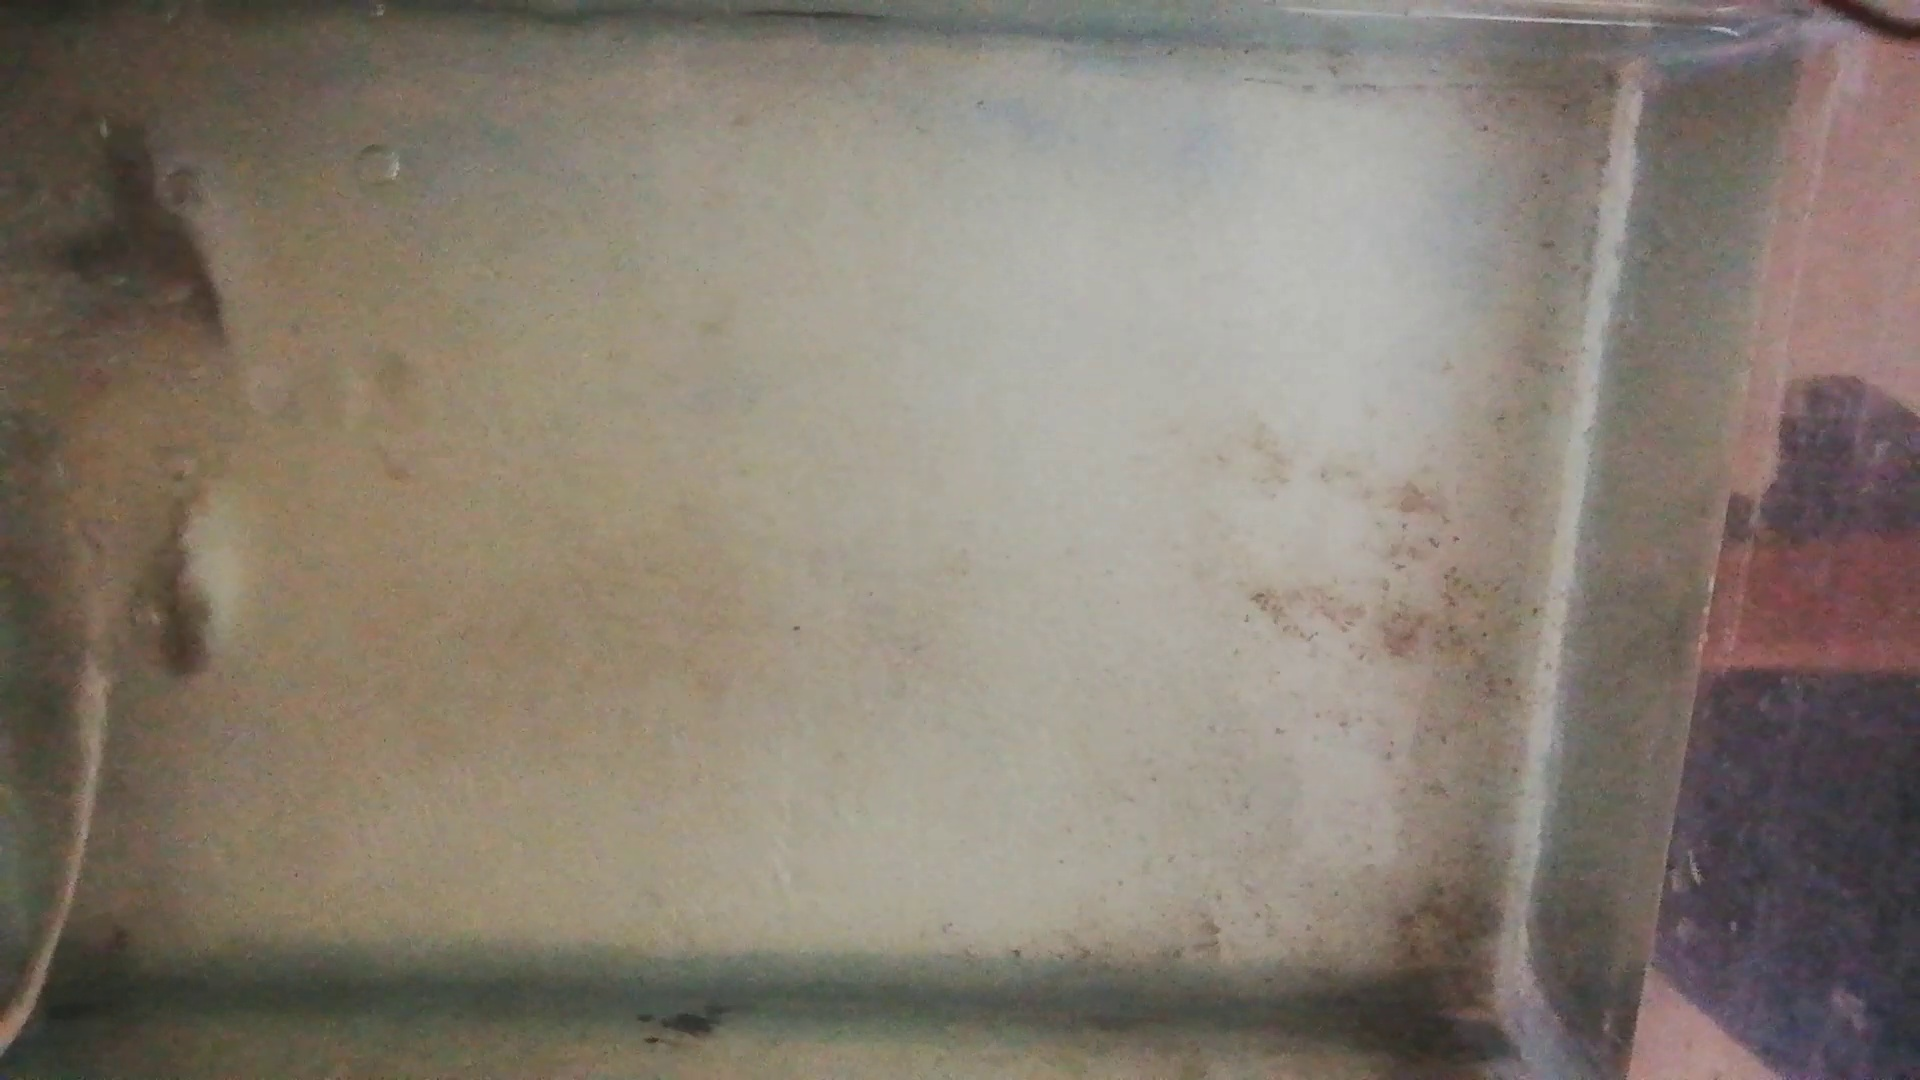fish: (102, 121, 228, 342), (164, 498, 220, 680)
